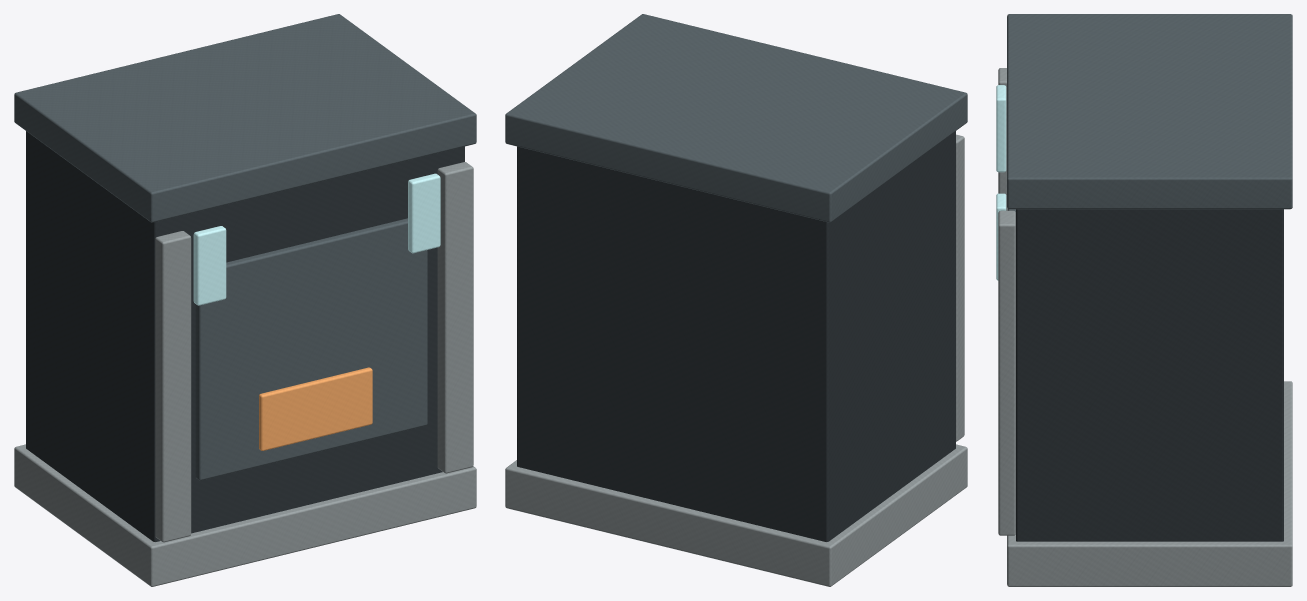
The model's file is HeavyContainmentCrate.glb.
The picture shows the model from 3 angles, left to right: view 1: azimuth 30°, elevation 25°; view 2: azimuth 150°, elevation 25°; view 3: azimuth 270°, elevation 25°; orthographic projection. The views are drawn at different scales.
Visible parts, largest first — view 1: HeavyContainmentCrate_Mesh; view 2: HeavyContainmentCrate_Mesh; view 3: HeavyContainmentCrate_Mesh.
Part boxes in pixels (x1=…): HeavyContainmentCrate_Mesh: x1=14, y1=14, x2=476, y2=586; HeavyContainmentCrate_Mesh: x1=505, y1=14, x2=967, y2=586; HeavyContainmentCrate_Mesh: x1=996, y1=14, x2=1292, y2=586.
Size of the model in its own units: 1.34 by 1.55 by 1.02.
Materials: 5 (5 with a texture image).
